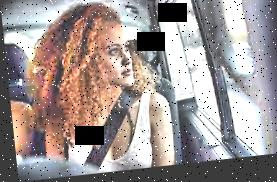seatbelt: (69, 52, 173, 169)
